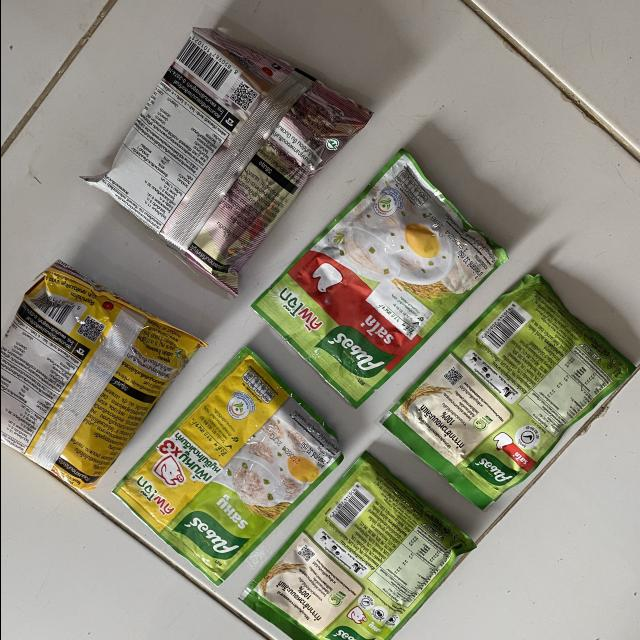plastik: (82, 28, 371, 296), (252, 150, 506, 407), (382, 275, 634, 508), (113, 349, 342, 585), (0, 262, 204, 489), (241, 453, 474, 640)
